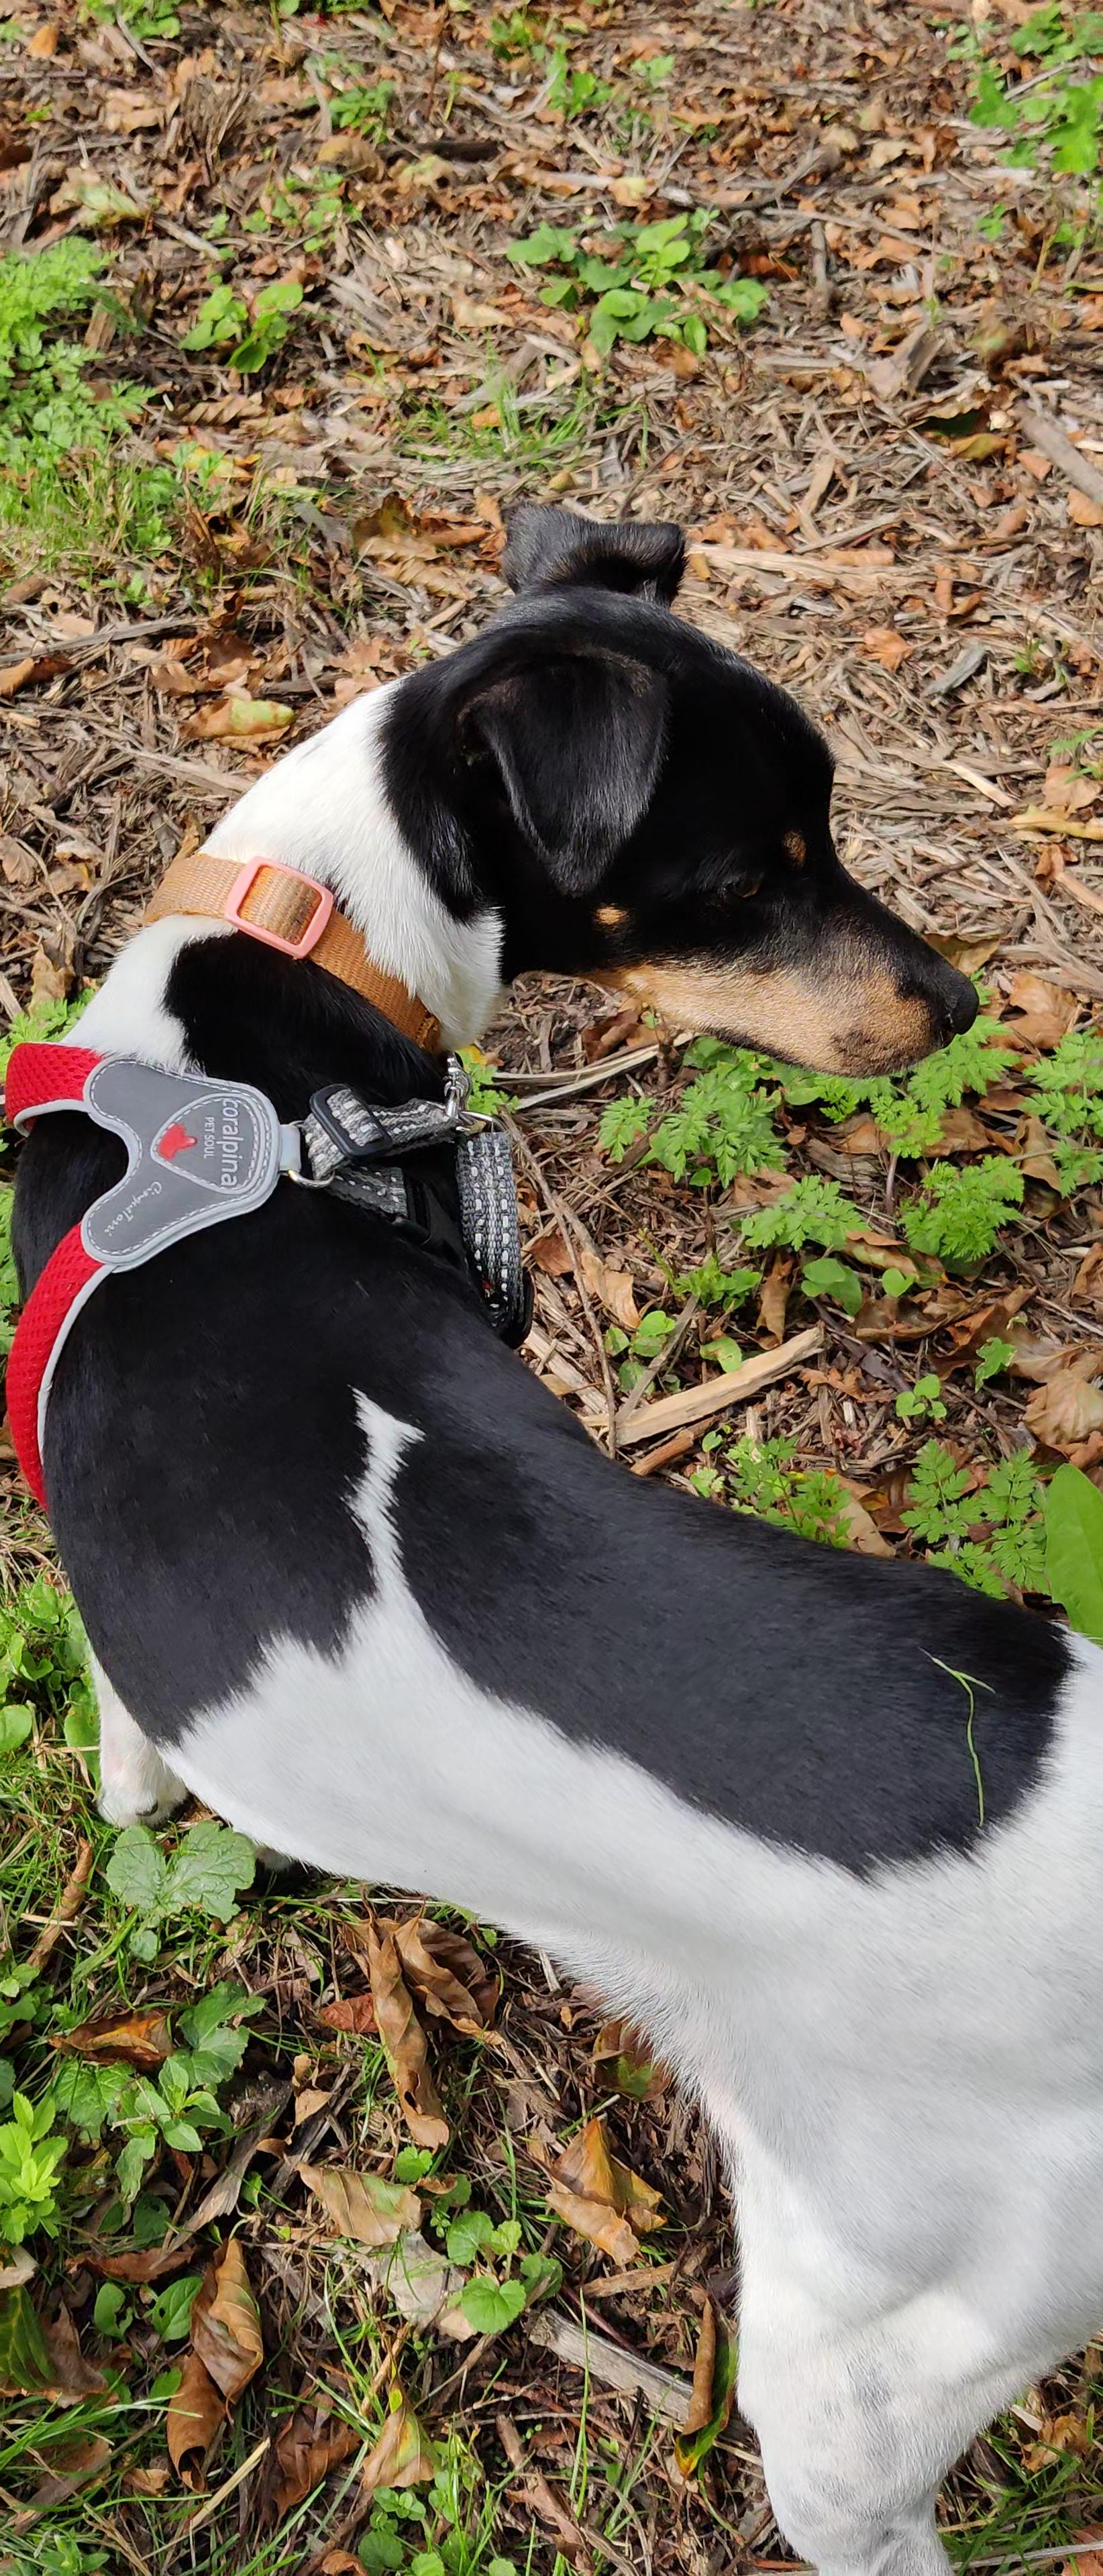Dog: (0, 401, 1103, 2576)
